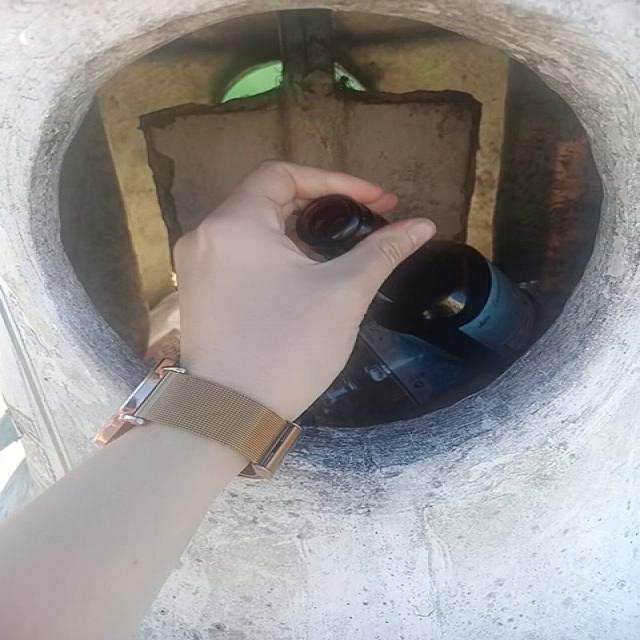glass: (368, 241, 525, 352), (296, 195, 389, 260)
